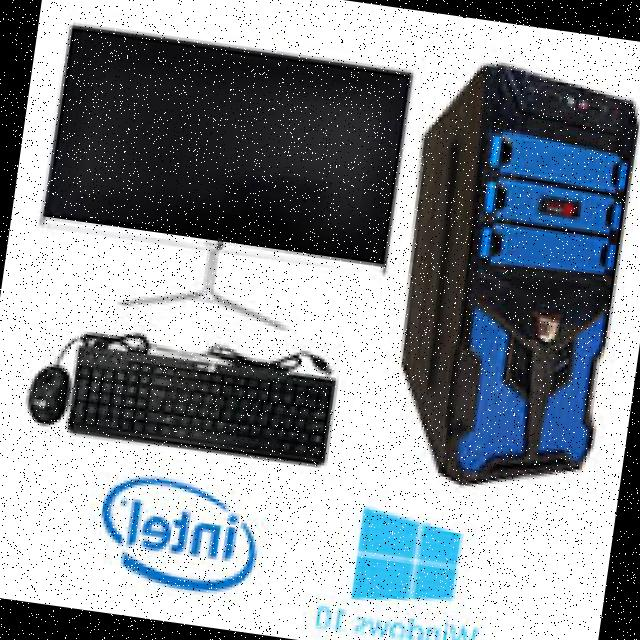Computer: (370, 43, 640, 520)
Monitor: (27, 10, 422, 287)
